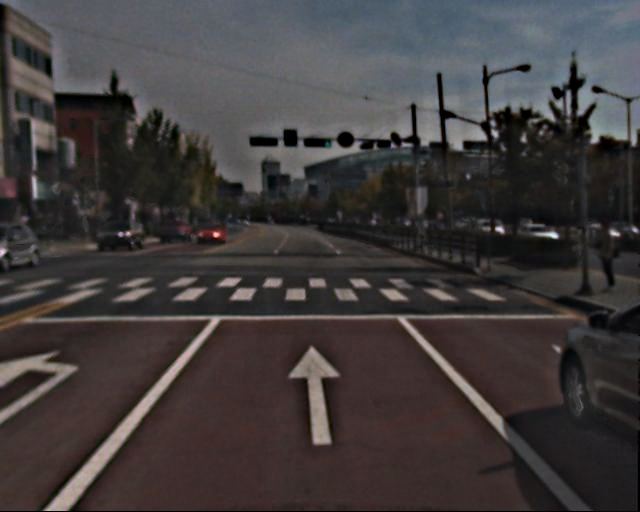person: (580, 217, 623, 295)
